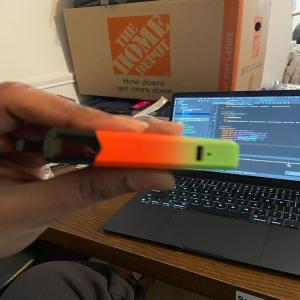Swift-E-Ciggirate: (10, 123, 244, 179)
